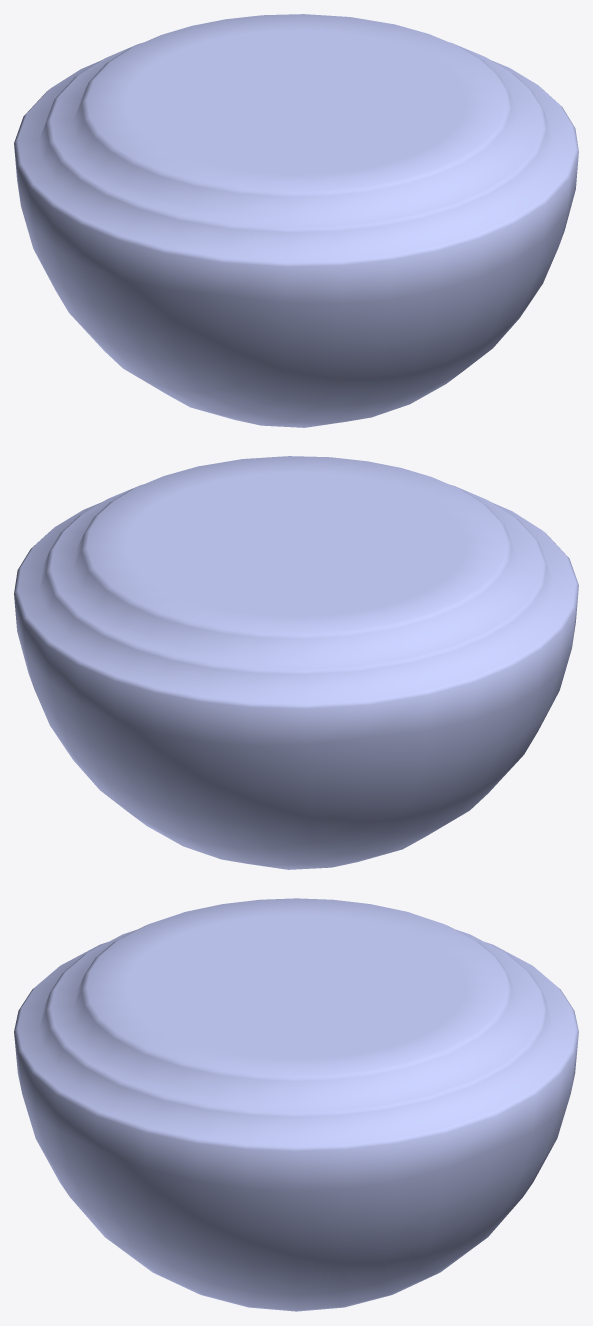
File: Semisphere_S.fbx
3 views of the same model, one above another, from view 1: azimuth 30°, elevation 25°; view 2: azimuth 150°, elevation 25°; view 3: azimuth 270°, elevation 25° (orthographic).
Parts seen in each view (by area): view 1: Semisphere_S; view 2: Semisphere_S; view 3: Semisphere_S.
Part boxes in pixels (left/top/right/bottom): Semisphere_S: left=14, top=14, right=578, bottom=427; Semisphere_S: left=14, top=456, right=578, bottom=869; Semisphere_S: left=14, top=898, right=578, bottom=1311.
Size of the model in its own units: 1000 by 584 by 1000.
